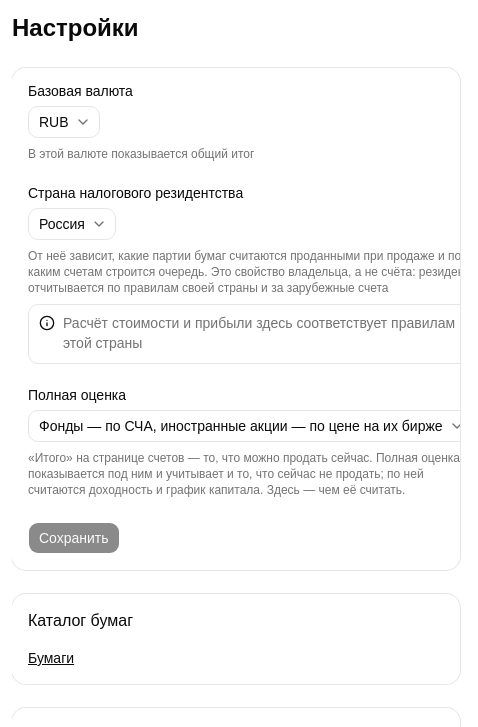
Test: SettingsPage › tax residency › states what the selected country means for the figures before it is saved
Expected: the text "соответствует правилам этой страны" is shown, x1=63 y1=315 x2=455 y2=351
Click the dropdown named "Страна налогового резидентства": {"x": 72, "y": 224} x1=28 y1=208 x2=116 y2=240
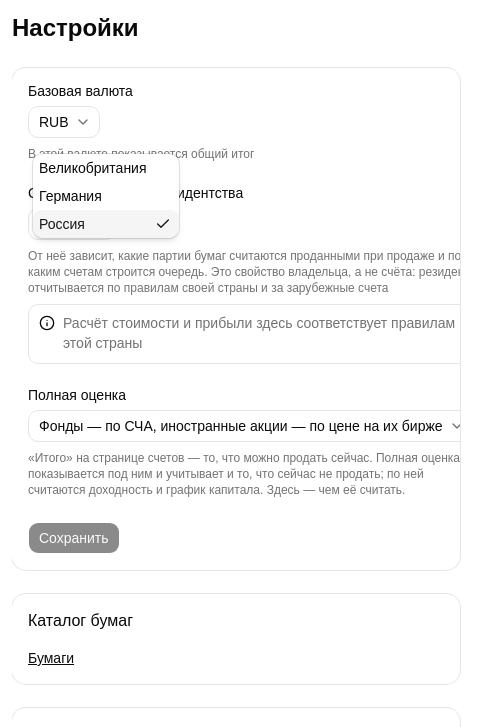
Click the option "Великобритания": {"x": 93, "y": 168} x1=39 y1=160 x2=146 y2=176
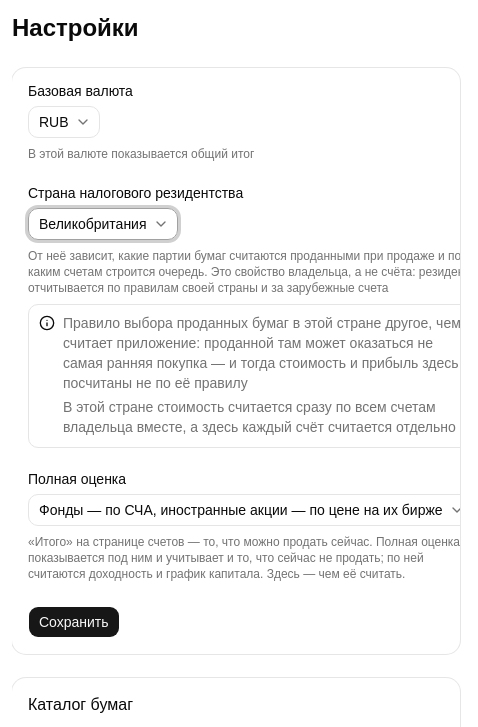
Now the text "не самая ранняя покупка" is shown, box x1=63 y1=315 x2=460 y2=391
Now the text "сразу по всем счетам владельца" is shown, box x1=63 y1=399 x2=456 y2=435
Now the text "соответствует правилам этой страны" is gone
